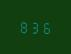eight: (18, 19, 28, 33)
six: (41, 20, 51, 34)
three: (30, 19, 40, 34)
